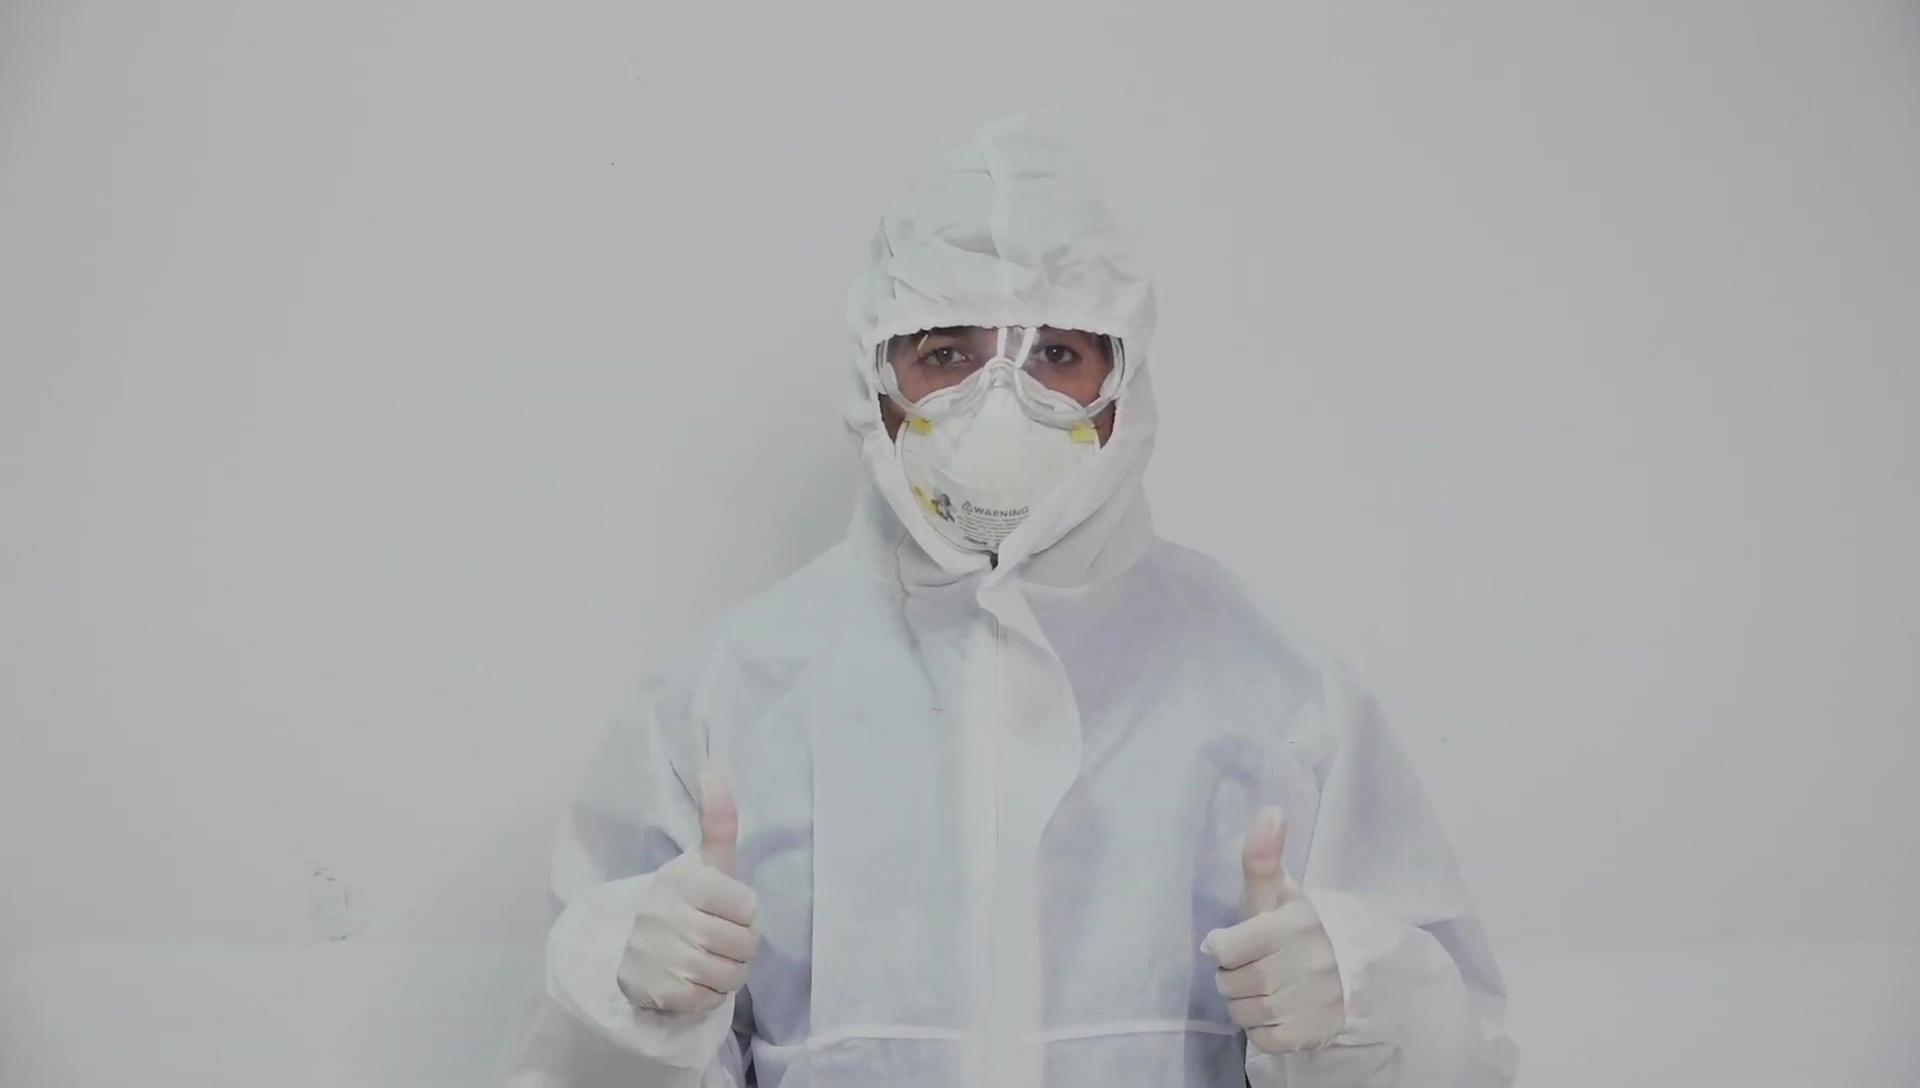Gloves: (1201, 804, 1346, 1054), (615, 771, 761, 1018)
Goggles: (876, 317, 1127, 433)
